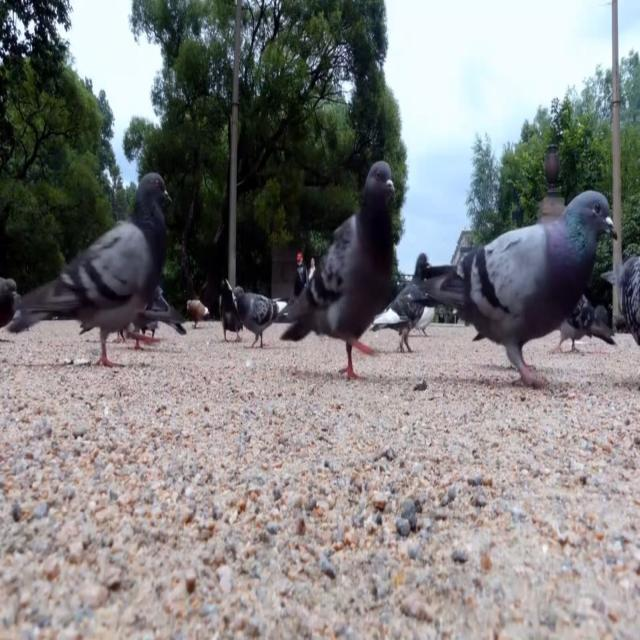bird: (418, 187, 621, 420), (296, 146, 404, 435), (38, 153, 170, 375), (545, 249, 634, 390), (108, 267, 195, 375), (379, 221, 426, 391), (213, 255, 259, 362), (239, 281, 282, 362), (175, 280, 219, 348), (0, 244, 26, 351), (622, 218, 640, 364), (402, 290, 441, 338)
